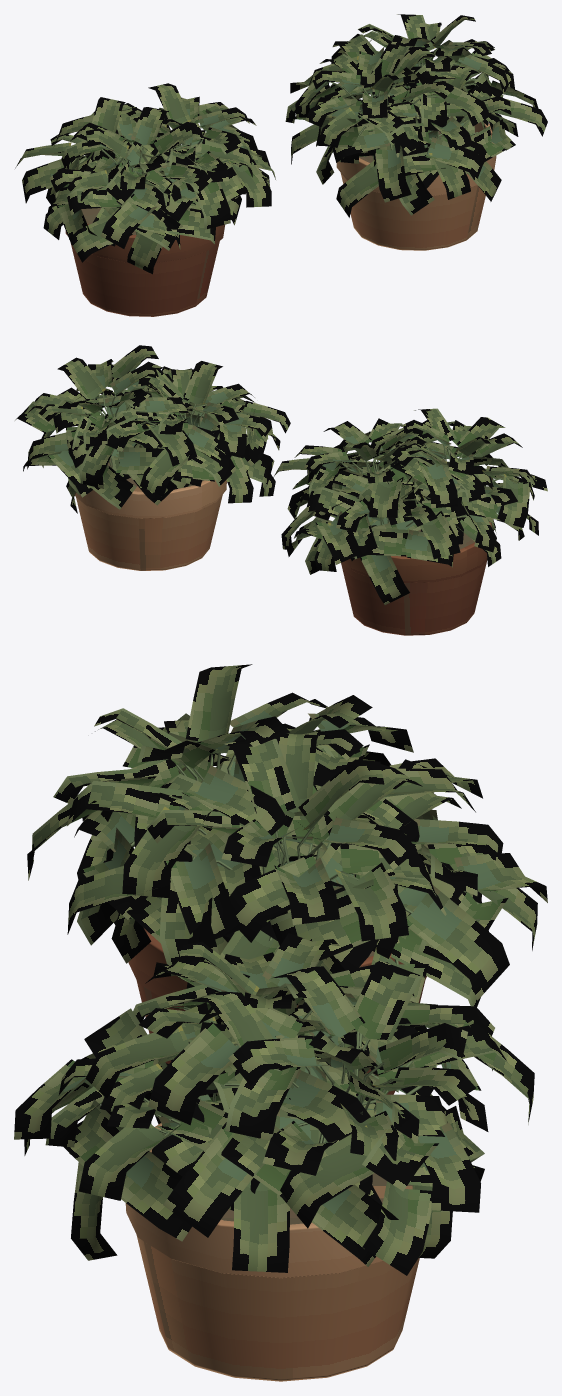
File: a_com_house_a01_plant02.gltf
3 renders of one model, top to bottom at view 1: azimuth 30°, elevation 25°; view 2: azimuth 150°, elevation 25°; view 3: azimuth 270°, elevation 25°, orthographic. The views are drawn at different scales.
Parts seen in each view (by area): view 1: um_a_com_house_a01_plant02_model_a_com_house_a01_plant02_mod (×3); view 2: um_a_com_house_a01_plant02_model_a_com_house_a01_plant02_mod (×3); view 3: um_a_com_house_a01_plant02_model_a_com_house_a01_plant02_mod (×3).
Boxes of the visible parts, bbox=[...] form: um_a_com_house_a01_plant02_model_a_com_house_a01_plant02_mod (×3): bbox=[15, 14, 547, 316]; um_a_com_house_a01_plant02_model_a_com_house_a01_plant02_mod (×3): bbox=[15, 345, 547, 635]; um_a_com_house_a01_plant02_model_a_com_house_a01_plant02_mod (×3): bbox=[14, 664, 547, 1381].
Size of the model in its own units: 1.25 by 0.4566 by 0.6205.
Materials: 3 (3 with a texture image).
